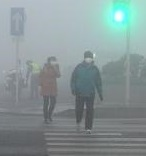person: (69, 50, 105, 135), (37, 55, 62, 123), (24, 59, 42, 102)
